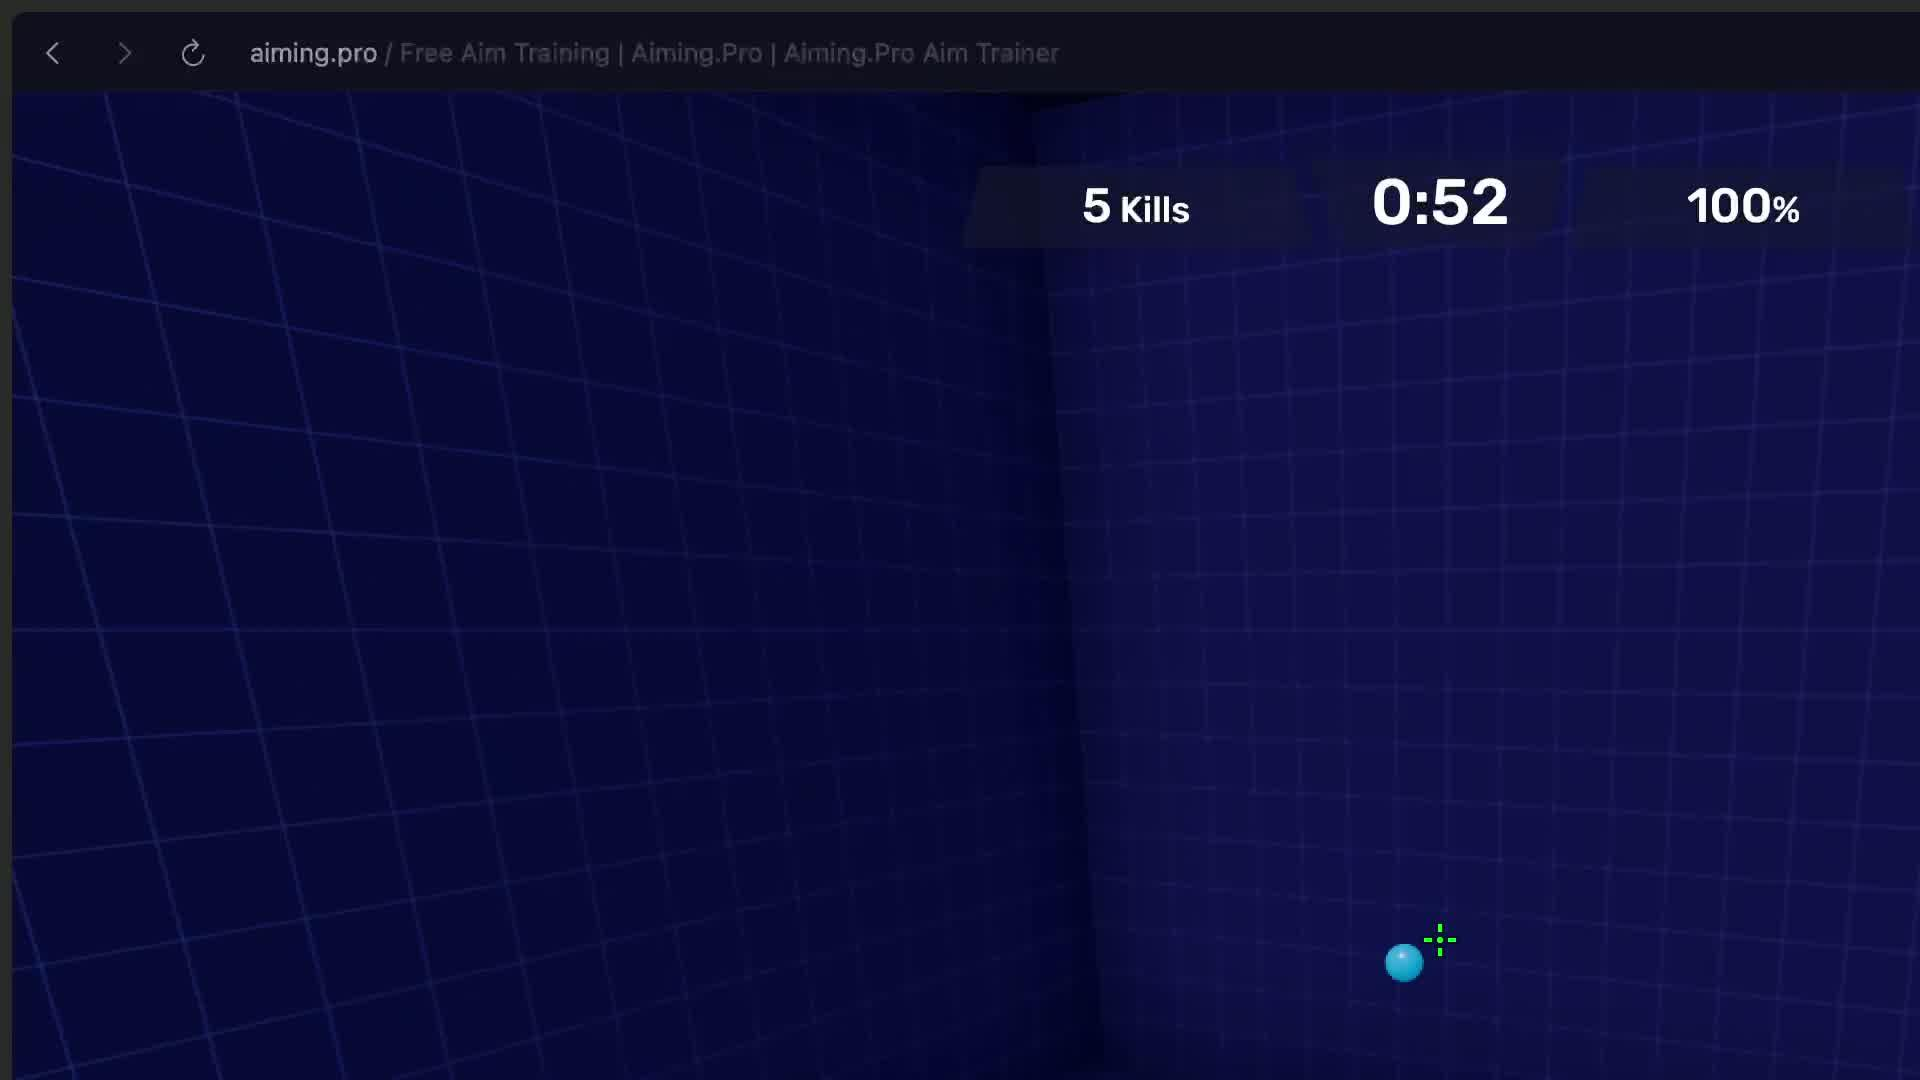target: (1385, 945, 1423, 981)
